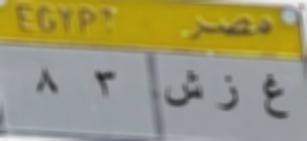3: (93, 65, 118, 100)
8: (34, 65, 60, 102)
ghayn: (259, 70, 290, 123)
sheen: (160, 66, 204, 111)
zay: (210, 74, 241, 114)
